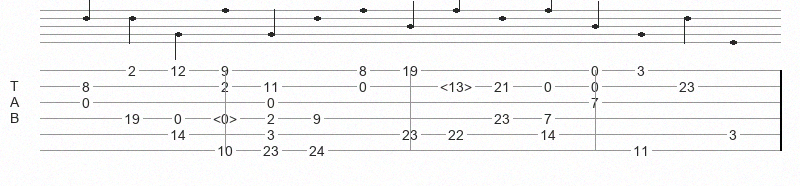0: (82, 95, 94, 109), (174, 111, 186, 125), (267, 95, 279, 109), (359, 79, 371, 93), (544, 79, 556, 93), (591, 63, 603, 77), (591, 79, 603, 93)
10: (217, 143, 237, 157)
11: (263, 79, 283, 93), (633, 143, 653, 157)
12: (170, 63, 190, 77)
14: (170, 127, 190, 141), (540, 127, 560, 141)
19: (124, 111, 144, 125), (402, 63, 422, 77)
2: (128, 63, 140, 77), (221, 79, 233, 93), (267, 111, 279, 125)
21: (494, 79, 514, 93)
22: (448, 127, 468, 141)
23: (263, 143, 283, 157), (402, 127, 422, 141), (494, 111, 514, 125), (679, 79, 699, 93)
24: (309, 143, 329, 157)
3: (267, 127, 279, 141), (637, 63, 649, 77), (729, 127, 741, 141)
7: (544, 111, 556, 125), (591, 95, 603, 109)
8: (82, 79, 94, 93), (359, 63, 371, 77)
9: (221, 63, 233, 77), (313, 111, 325, 125)
harmonic: (440, 79, 476, 93), (213, 111, 241, 125)
